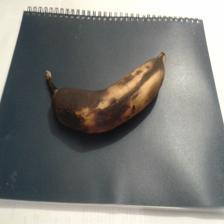Banana Rotten: (36, 63, 167, 149)
